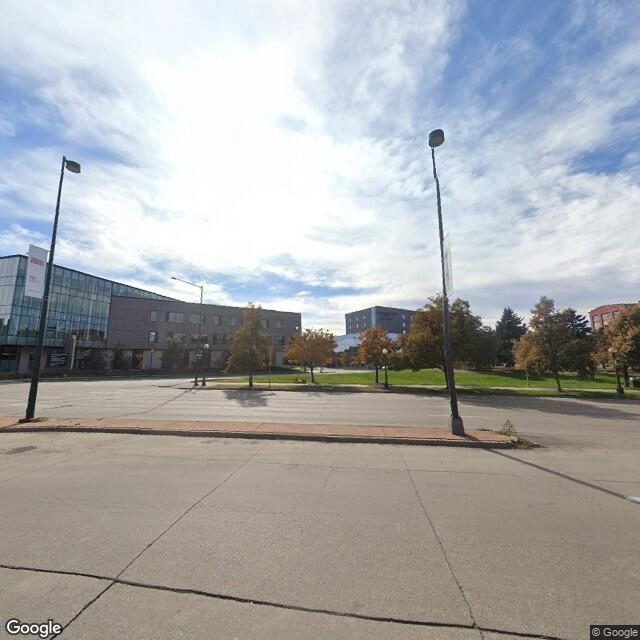lamp: (421, 125, 477, 437), (30, 146, 83, 425)
